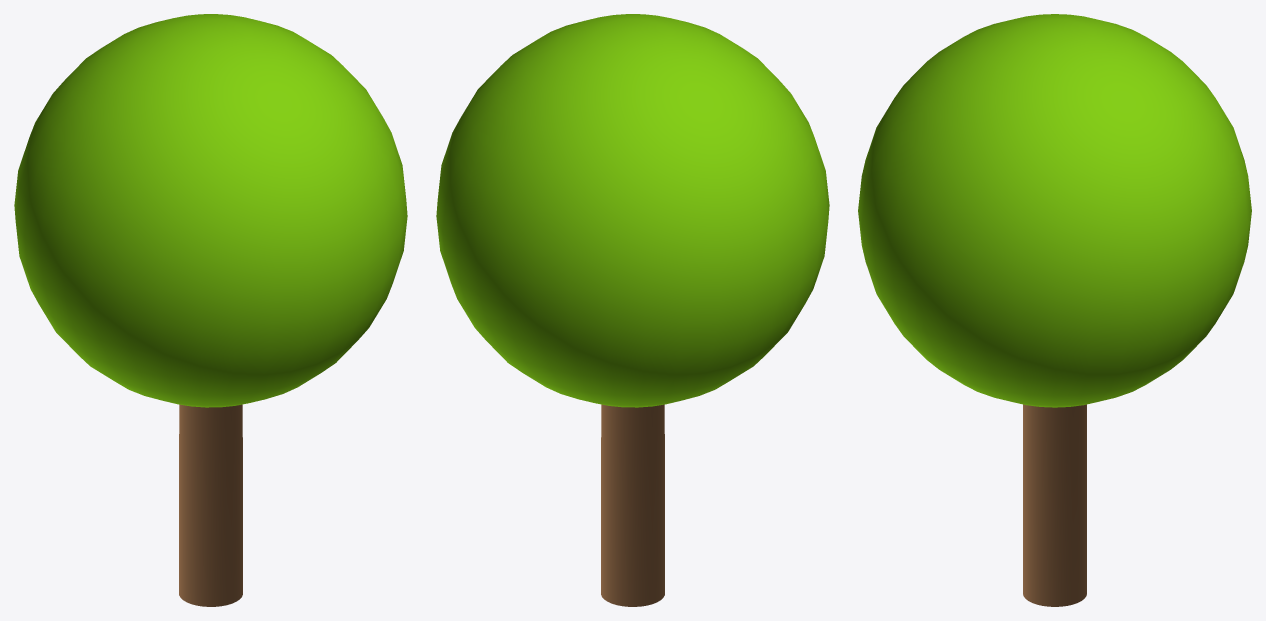
The picture shows the model from 3 angles, left to right: view 1: azimuth 30°, elevation 25°; view 2: azimuth 150°, elevation 25°; view 3: azimuth 270°, elevation 25°; orthographic projection.
Parts seen in each view (by area): view 1: Node36; view 2: Node36; view 3: Node36.
Boxes of the visible parts, x1,y1,x2,y2 form: Node36: [14, 14, 407, 606]; Node36: [436, 14, 829, 606]; Node36: [858, 14, 1251, 606].
Bounding box in the file's own units: 0.1028 × 0.1624 × 0.1028.
